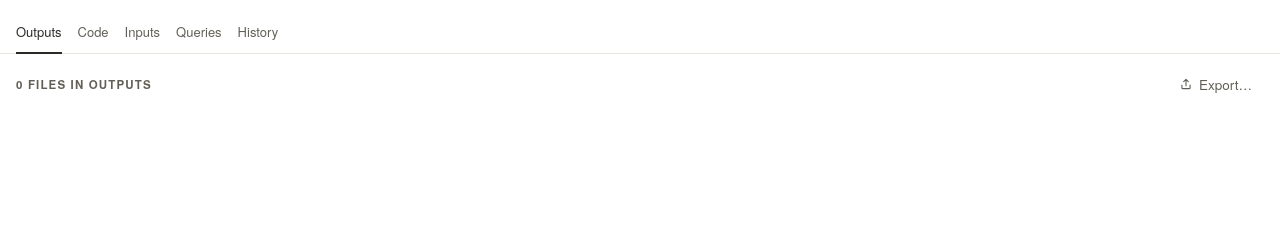
labels the checkpoint after an Express turn
This screenshot has width=1280, height=229.
Click the tab "History": (258, 33) [238, 12, 278, 54]
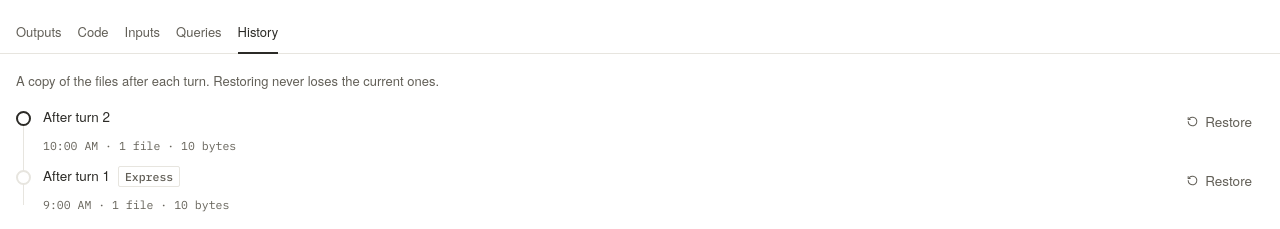
Check: the text "Express" is shown, box [118, 166, 180, 187]
